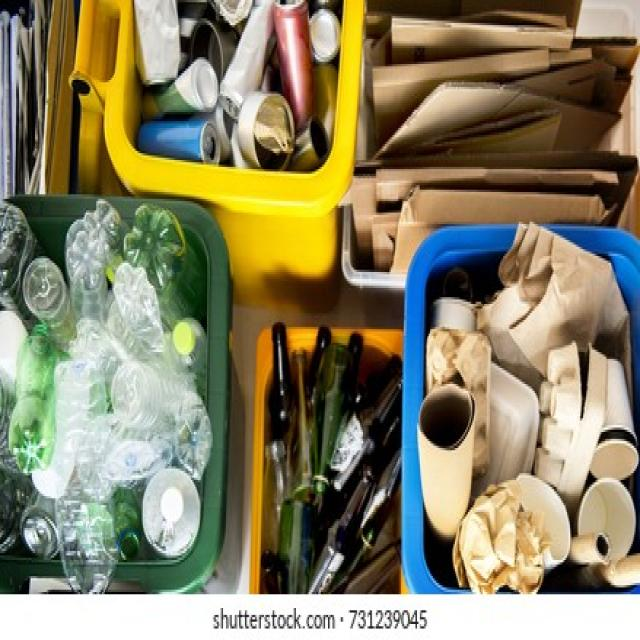cardboard: (418, 14, 610, 212), (463, 295, 598, 558)
glass: (277, 372, 367, 567)
metal: (185, 16, 319, 151)
plastic: (10, 265, 178, 528)
